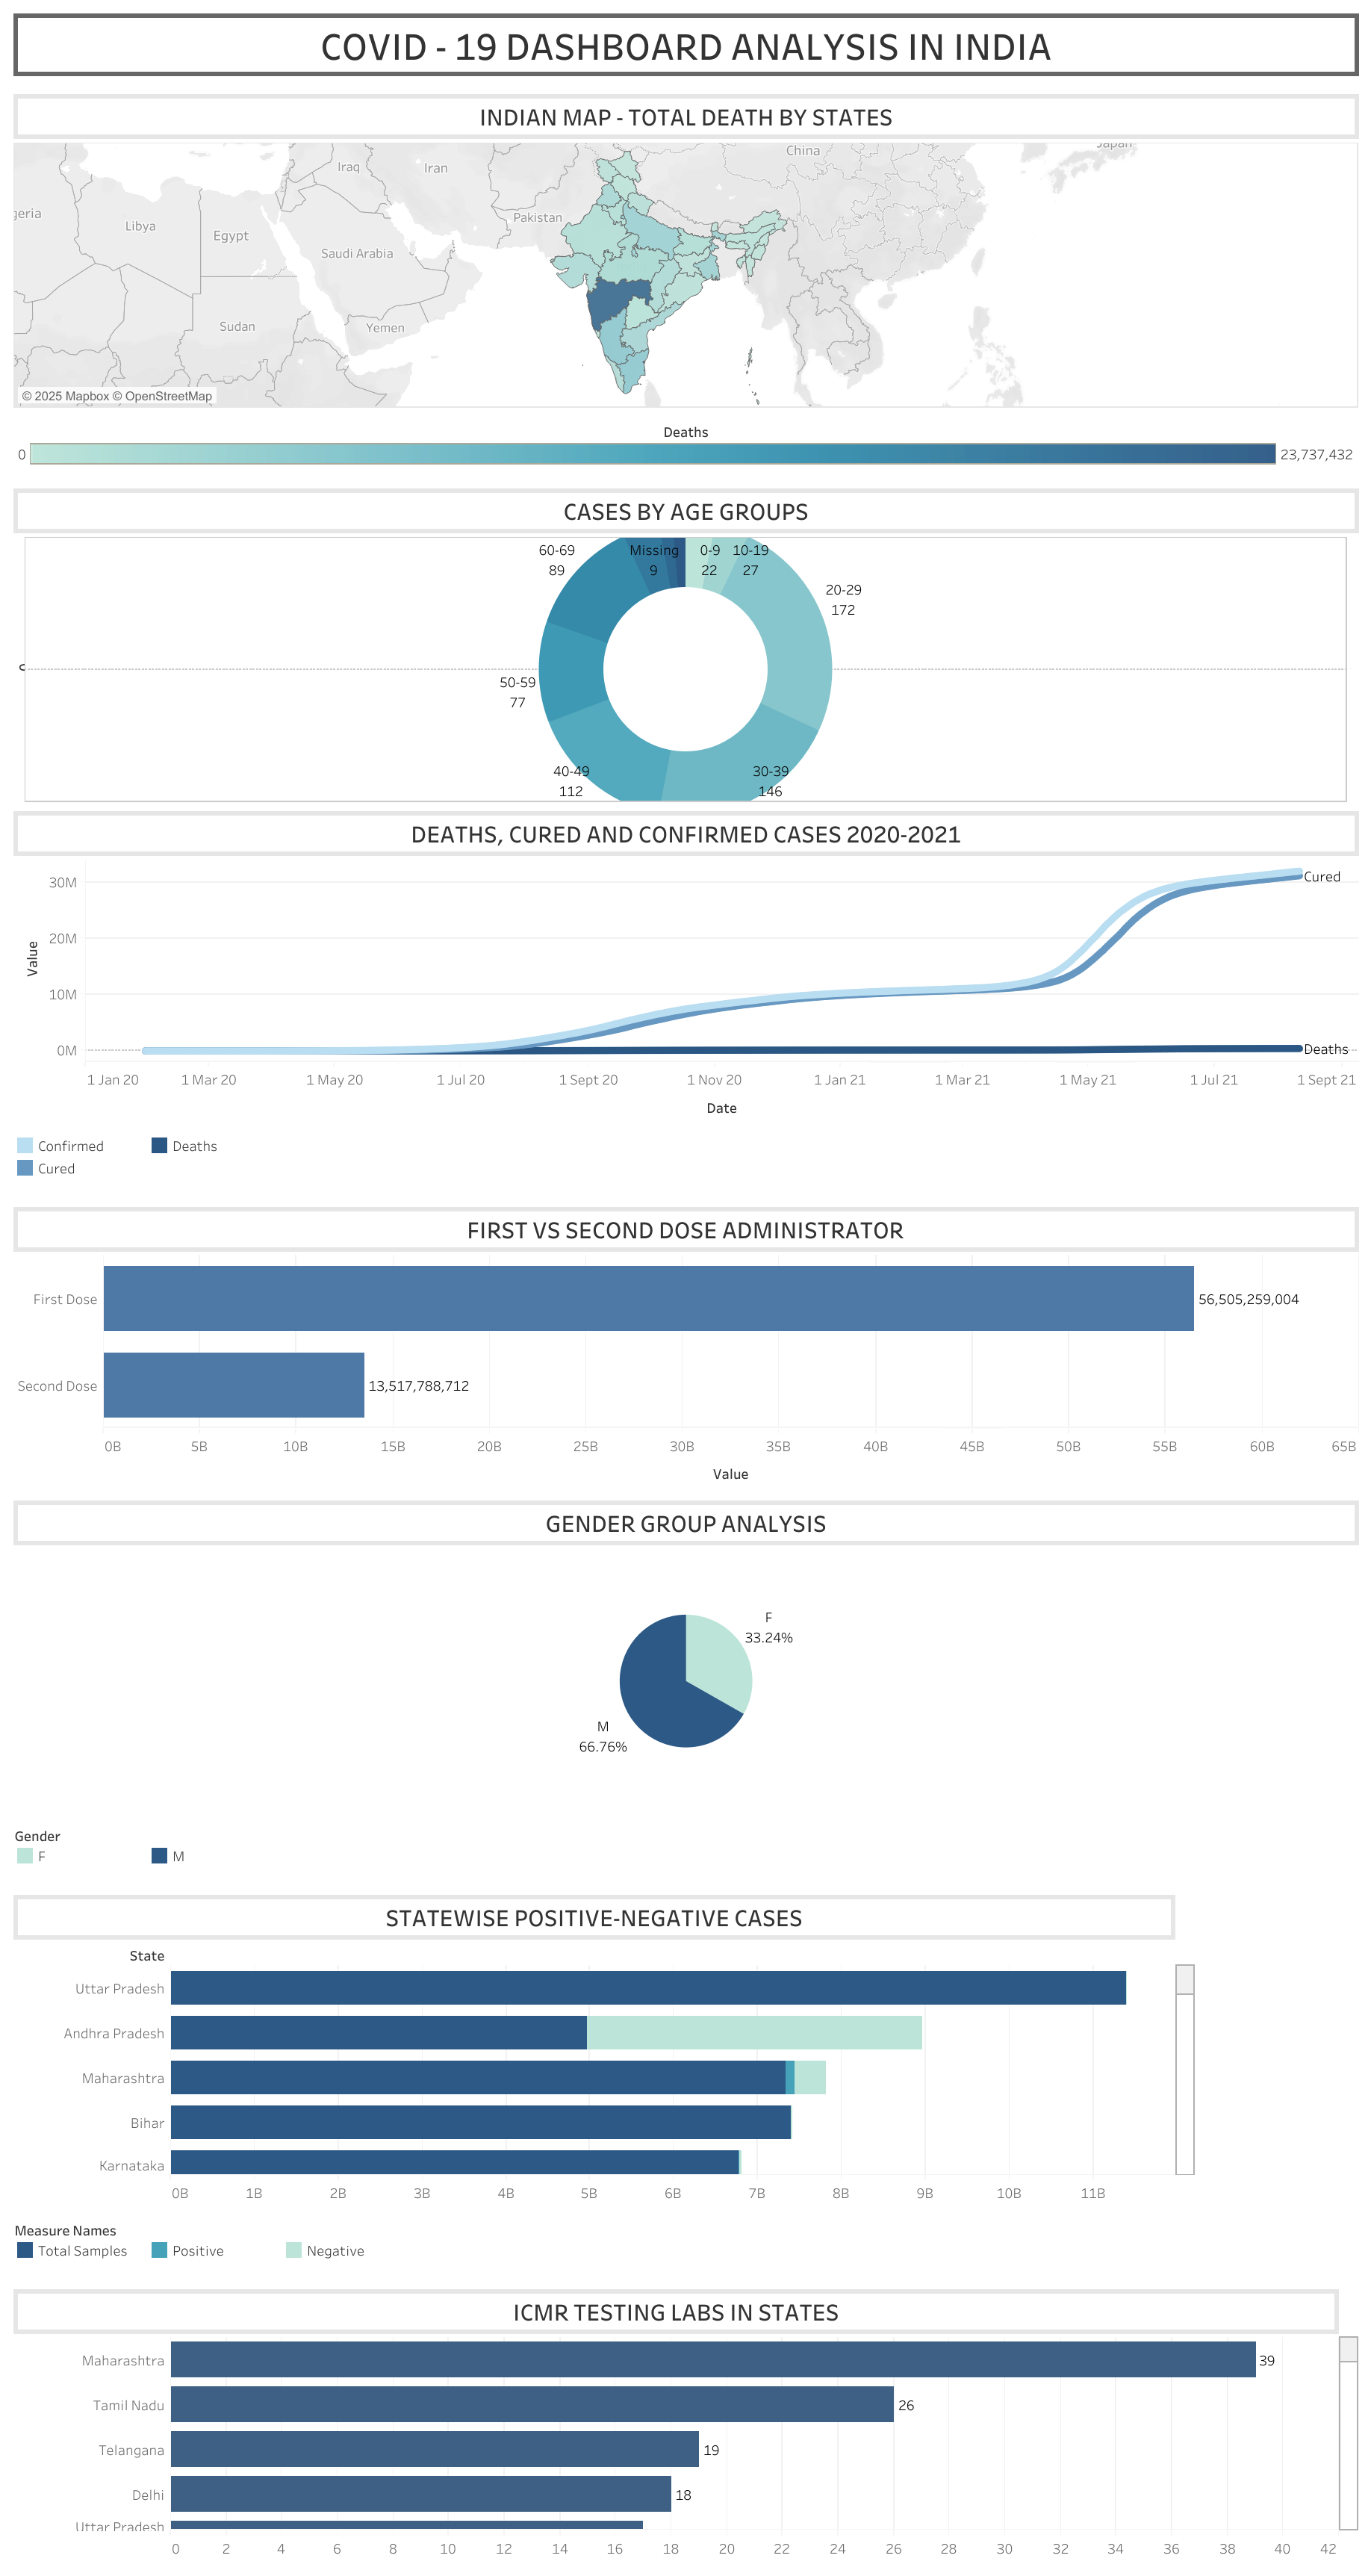

What the dashboard file says about the page in this screenshot:
{"tool":"tableau","page":{"name":"Dashboard 1","canvas":[1000,1000],"units":"permille","ordinal":0},"visuals":[{"type":"worksheet","title":"Sheet 9","mark":"Automatic","box":[4.4,7.3,991.1,86.4]},{"type":"worksheet","title":"INDIAN MAP - TOTAL DEATH BY STATES","mark":"Automatic","box":[4.4,93.6,336.1,441.2]},{"type":"worksheet","title":"CASES BY AGE GROUPS","mark":"Pie","rows":["Calculation_1198801963372544001","Calculation_1198801963372650499"],"box":[340.6,93.6,271.1,441.2]},{"type":"worksheet","title":"DEATHS, CURED AND CONFIRMED CASES 2020-2021","mark":"Automatic","cols":["Date"],"box":[611.7,93.6,383.9,441.2]},{"type":"legend","title":"DEATHS, CURED AND CONFIRMED CASES 2020-2021","param":"[federated.0elcraf00jr4ox1bpp9v40xkhrkd].[:Measure Names]","box":[792.8,240,71.1,97.3]},{"type":"legend","title":"INDIAN MAP - TOTAL DEATH BY STATES","param":"[federated.0elcraf00jr4ox1bpp9v40xkhrkd].[sum:Deaths:qk]","box":[212.8,453.6,121.1,63.6]},{"type":"worksheet","title":"FIRST VS SECOND DOSE ADMINISTRATOR","mark":"Automatic","box":[4.4,534.9,343.9,233.1]},{"type":"worksheet","title":"GENDER GROUP ANALYSIS","mark":"Pie","box":[348.3,534.9,263.3,457.8]},{"type":"worksheet","title":"STATEWISE TESTING","mark":"Automatic","rows":["State"],"box":[611.7,534.9,383.9,457.8]},{"type":"worksheet","title":"ICMR TESTING LABS IN STATES","mark":"Automatic","rows":["state"],"cols":["lab"],"box":[4.4,768,343.9,224.8]},{"type":"legend","title":"STATEWISE TESTING","param":"[federated.1am15v10vk3yf71d605gk1nw0ute].[:Measure Names]","box":[892.2,844.6,83.9,91.8]},{"type":"legend","title":"GENDER GROUP ANALYSIS","param":"[federated.1hqp0bs1pqyw8f1dvje7a1cg9ypz].[none:gender:nk]","box":[369.4,908.2,46.1,69.1]}]}

Visuals, with their boxes on the dashboard's canvas, which has no fixed pixel size, in thousandths of its width and height (x1, y1, x2, y2). These are canvas units, not pixel positions in the 1371x2576 screenshot, which may show the page scaled, cropped or inside an application window:
"Sheet 9" worksheet: box(4, 7, 996, 94)
"INDIAN MAP - TOTAL DEATH BY STATES" worksheet: box(4, 94, 340, 535)
"CASES BY AGE GROUPS" worksheet (Pie marks): box(341, 94, 612, 535)
"DEATHS, CURED AND CONFIRMED CASES 2020-2021" worksheet: box(612, 94, 996, 535)
"DEATHS, CURED AND CONFIRMED CASES 2020-2021" legend: box(793, 240, 864, 337)
"INDIAN MAP - TOTAL DEATH BY STATES" legend: box(213, 454, 334, 517)
"FIRST VS SECOND DOSE ADMINISTRATOR" worksheet: box(4, 535, 348, 768)
"GENDER GROUP ANALYSIS" worksheet (Pie marks): box(348, 535, 612, 993)
"STATEWISE TESTING" worksheet: box(612, 535, 996, 993)
"ICMR TESTING LABS IN STATES" worksheet: box(4, 768, 348, 993)
"STATEWISE TESTING" legend: box(892, 845, 976, 936)
"GENDER GROUP ANALYSIS" legend: box(369, 908, 416, 977)
